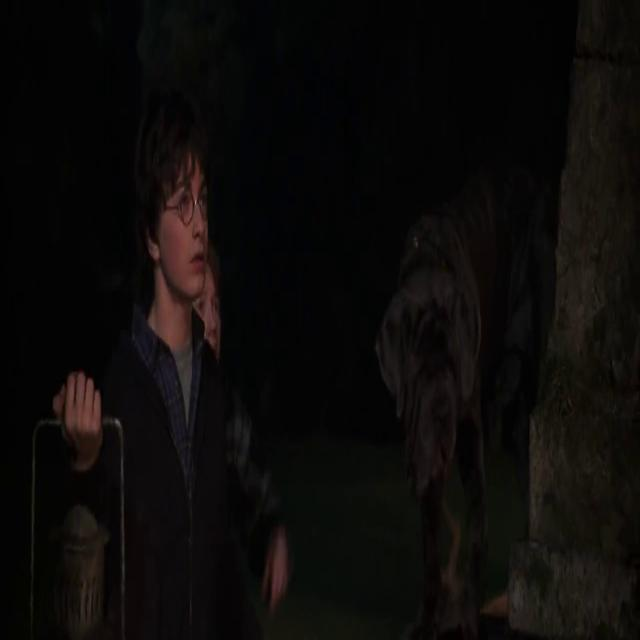Dog: (352, 112, 549, 640)
